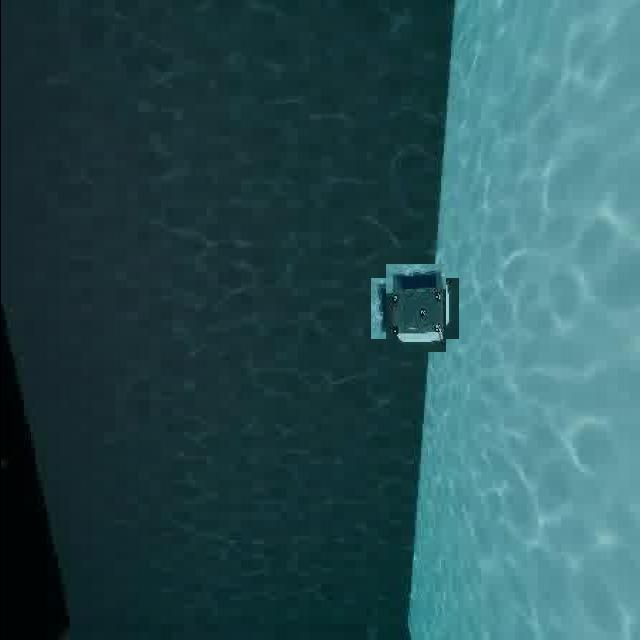Docking Station: (378, 272, 452, 346)
